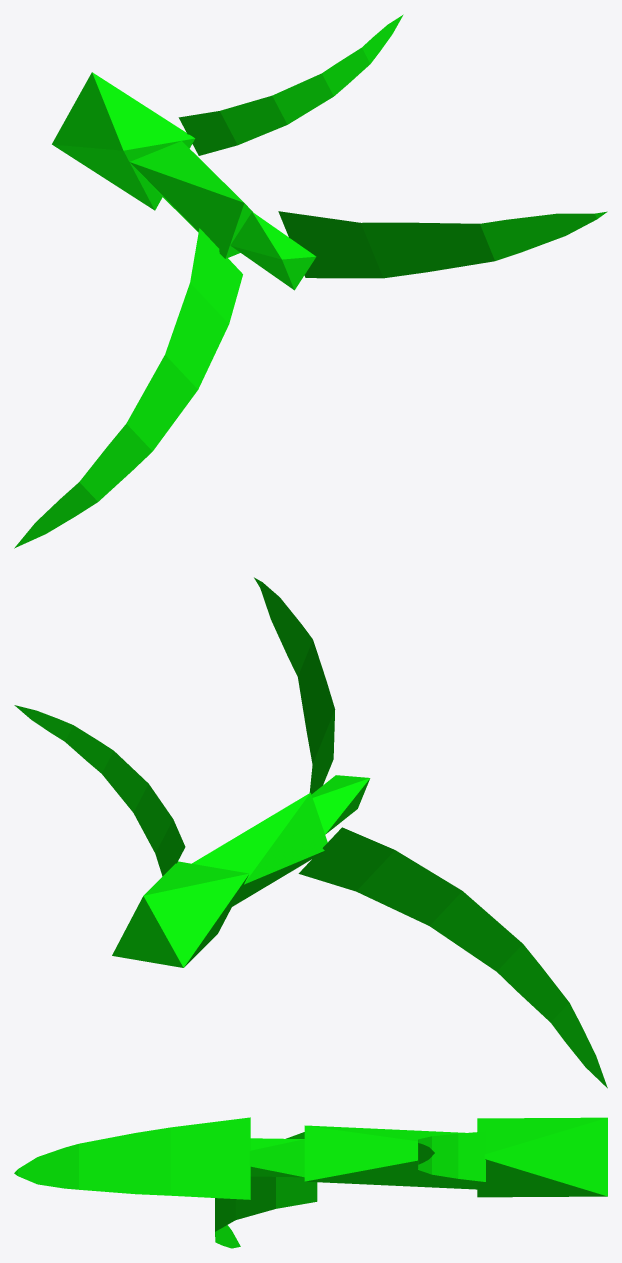
File: usm_16_2.5D_2018-07-22_3.obj
3 renders of one model, top to bottom at view 1: azimuth 30°, elevation 25°; view 2: azimuth 150°, elevation 25°; view 3: azimuth 270°, elevation 25°, orthographic. The views are drawn at different scales.
Parts seen in each view (by area): view 1: vid_6, vid_8, vid_3, vid_4, vid_5, vid_7; view 2: vid_6, vid_3, vid_5, vid_4, vid_8, vid_7; view 3: vid_8, vid_3, vid_5, vid_6, vid_4, vid_7.
Boxes of the visible parts, x1=… form: vid_6: x1=14, y1=228, x2=242, y2=548; vid_8: x1=278, y1=211, x2=607, y2=278; vid_3: x1=52, y1=72, x2=195, y2=210; vid_4: x1=178, y1=14, x2=403, y2=155; vid_5: x1=130, y1=141, x2=252, y2=258; vid_7: x1=230, y1=212, x2=316, y2=290; vid_6: x1=298, y1=827, x2=607, y2=1088; vid_3: x1=112, y1=861, x2=248, y2=967; vid_5: x1=192, y1=792, x2=327, y2=906; vid_4: x1=14, y1=705, x2=185, y2=876; vid_8: x1=254, y1=577, x2=335, y2=794; vid_7: x1=311, y1=775, x2=370, y2=834; vid_8: x1=14, y1=1117, x2=250, y2=1199; vid_3: x1=477, y1=1117, x2=607, y2=1197; vid_5: x1=304, y1=1125, x2=477, y2=1189; vid_6: x1=215, y1=1132, x2=317, y2=1248; vid_4: x1=418, y1=1131, x2=485, y2=1181; vid_7: x1=249, y1=1138, x2=304, y2=1177.
Size of the model in its own units: 15.68 by 10.33 by 17.29.
